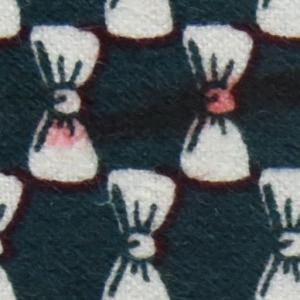Stain: (42, 66, 300, 151)
